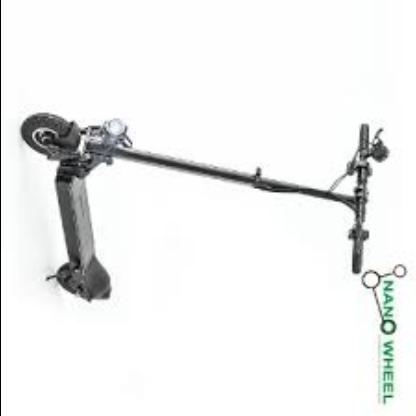bike: (20, 110, 391, 305)
